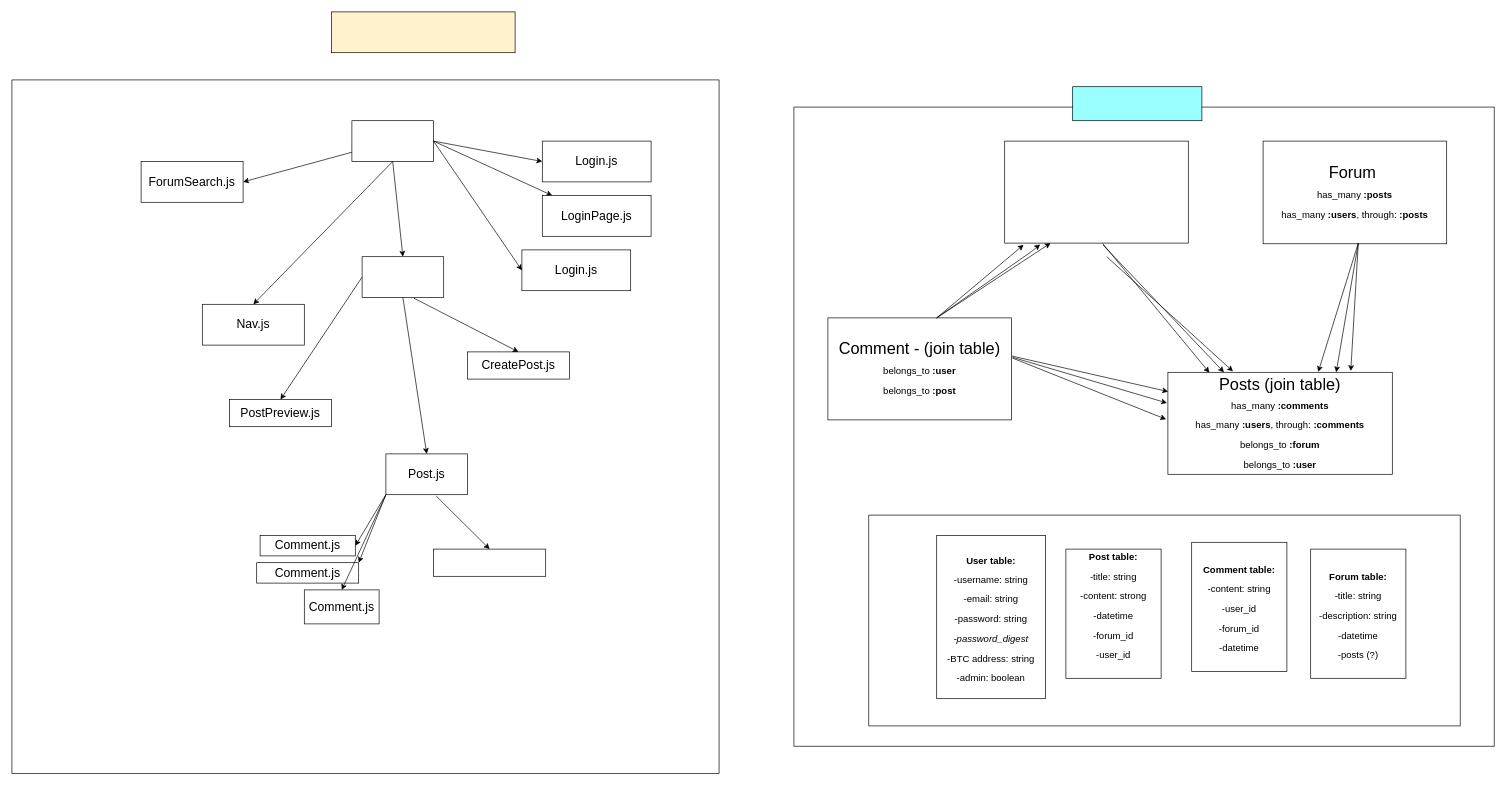
This 1506x785 diagram has some shape labels left out. The centre of each missing label's shape, as x and y in pixels:
"App.js" belongs at [392,141].
"Backend structure" belongs at [1137,103].
"CreateComment.js" belongs at [489,562].
"Forum.js" belongs at [402,277].
"React components hierarchy" belongs at [423,32].
"User has_many :comments has_many :posts has_many :forums , through :posts" belongs at [1096,191].
